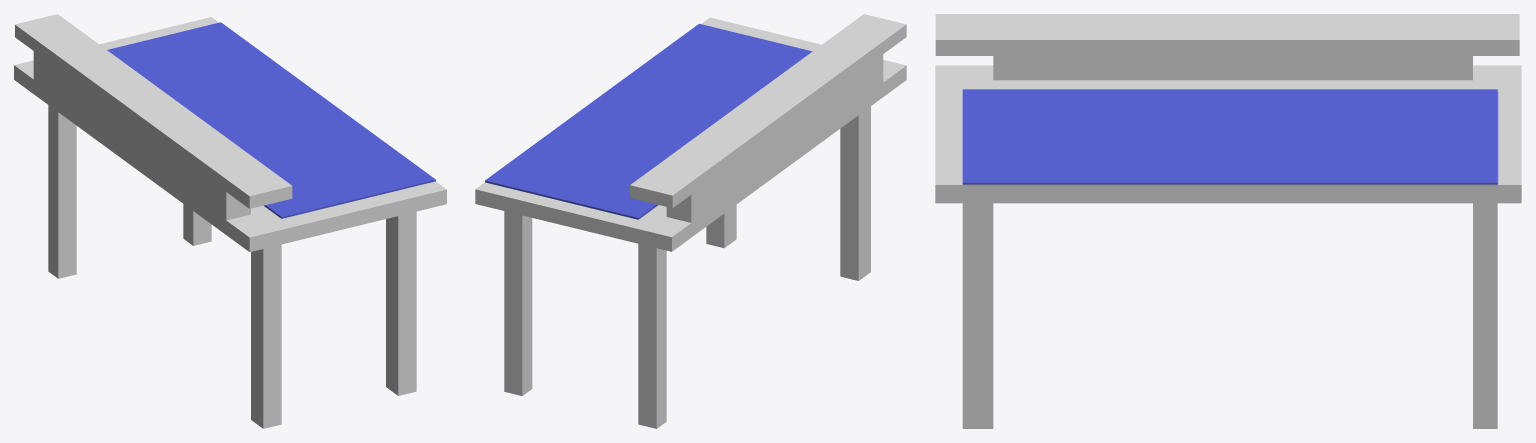
The model's file is SM_Table.fbx.
The picture shows the model from 3 angles, left to right: view 1: azimuth 30°, elevation 25°; view 2: azimuth 150°, elevation 25°; view 3: azimuth 270°, elevation 25°; orthographic projection. The views are drawn at different scales.
Visible parts, largest first — view 1: Table_copy; view 2: Table_copy; view 3: Table_copy.
Boxes of the visible parts, box(x1,y1,x2,y2) form: Table_copy: box(14, 14, 446, 428); Table_copy: box(475, 14, 906, 428); Table_copy: box(935, 14, 1521, 428).
Bounding box in the file's own units: 200 × 239 × 414.
1 material, 1 textured.
